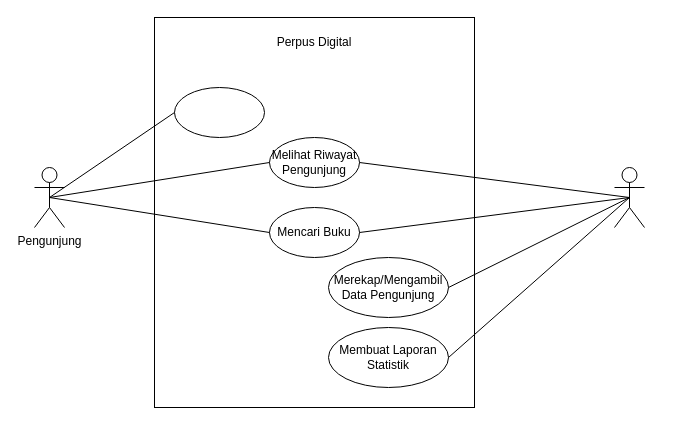
Image size: 679x425. Some labels were removed from this diagram. The box of each missing label's shape, as (x1, y1, x2, y2) in pixels:
Isi Data Pengunjung: (174, 86, 264, 138)
Pustakawan: (614, 166, 644, 228)
